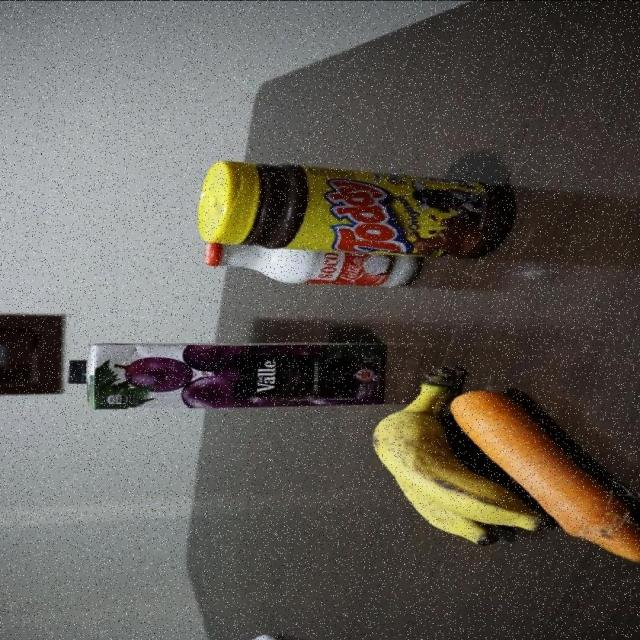Banana: (366, 359, 449, 544)
Carrot: (453, 377, 578, 469)
ChocolatePowder: (191, 162, 502, 246)
CoconutMilk: (195, 251, 418, 295)
